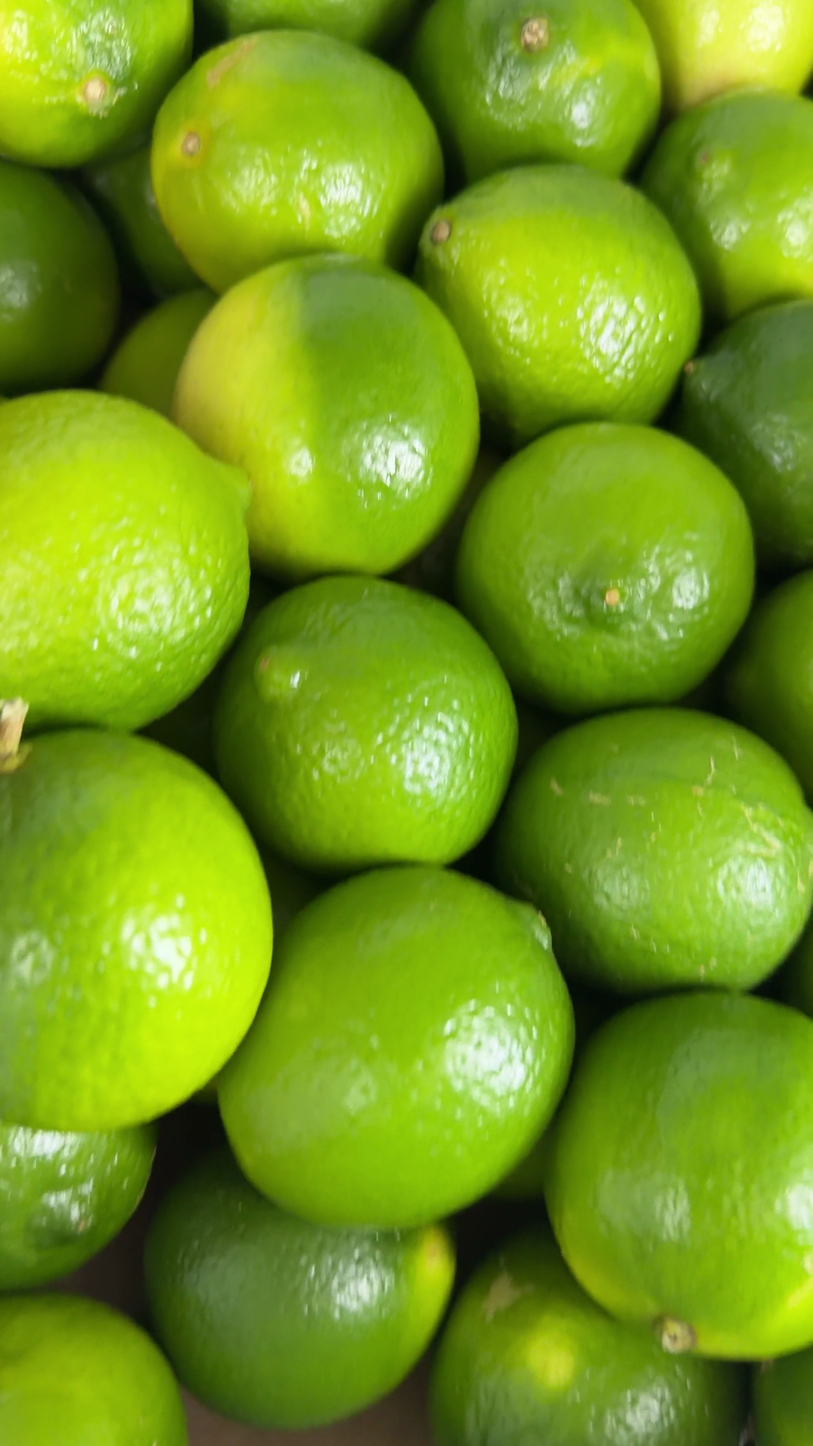lime: (219, 867, 573, 1228), (0, 730, 271, 1131), (174, 256, 479, 581), (546, 991, 813, 1359), (496, 708, 813, 993), (214, 577, 516, 872), (457, 423, 754, 714), (145, 1150, 454, 1429), (0, 391, 248, 728), (418, 165, 700, 447), (152, 30, 442, 291), (431, 1231, 746, 1446), (410, 0, 660, 183), (642, 90, 813, 323), (678, 300, 813, 570), (0, 0, 192, 166), (0, 1293, 186, 1446), (0, 160, 119, 393), (0, 1124, 155, 1291), (723, 570, 813, 798), (635, 0, 813, 111), (82, 143, 199, 297), (395, 447, 504, 602), (100, 289, 216, 418), (143, 650, 231, 776), (199, 0, 416, 50), (259, 848, 326, 940), (751, 1349, 813, 1446), (569, 984, 625, 1061), (774, 923, 813, 1017)
